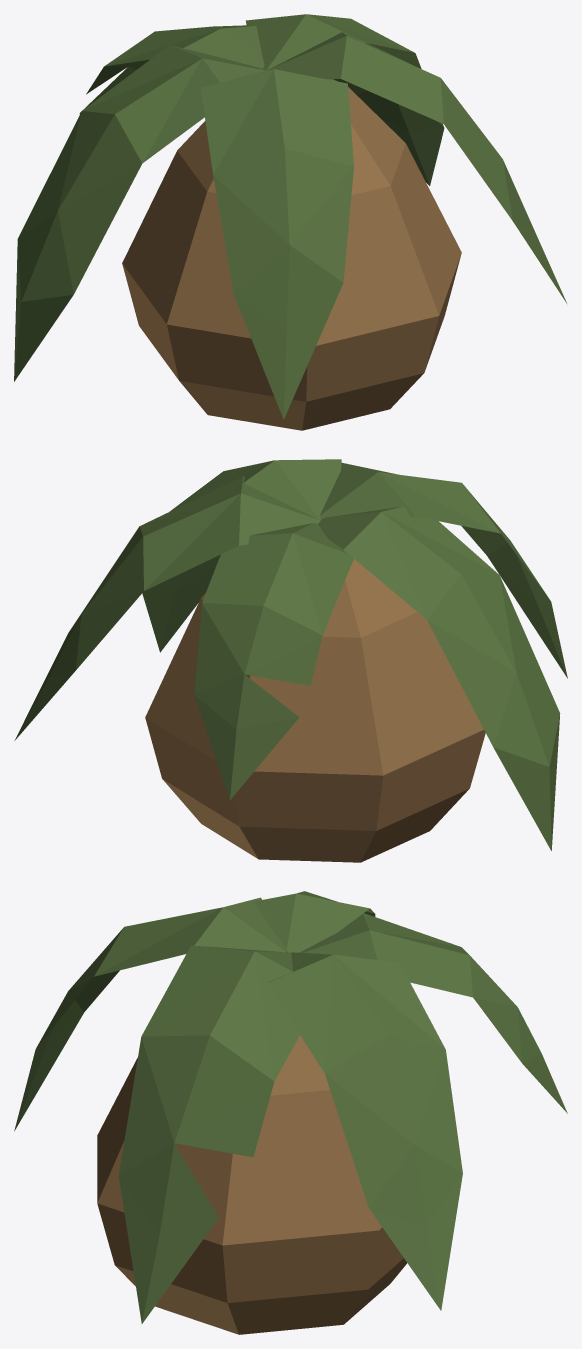
Rendered from tree_palm02.fbx.
3 views of the same model, one above another, from view 1: azimuth 30°, elevation 25°; view 2: azimuth 150°, elevation 25°; view 3: azimuth 270°, elevation 25° (orthographic). The views are drawn at different scales.
Visible parts, largest first — view 1: tree_palm_02; view 2: tree_palm_02; view 3: tree_palm_02.
Boxes of the visible parts, x1,y1,x2,y2 form: tree_palm_02: (14, 14, 566, 430); tree_palm_02: (14, 459, 567, 862); tree_palm_02: (14, 891, 567, 1334).
Bounding box in the file's own units: 3.05 × 2.91 × 2.07.
